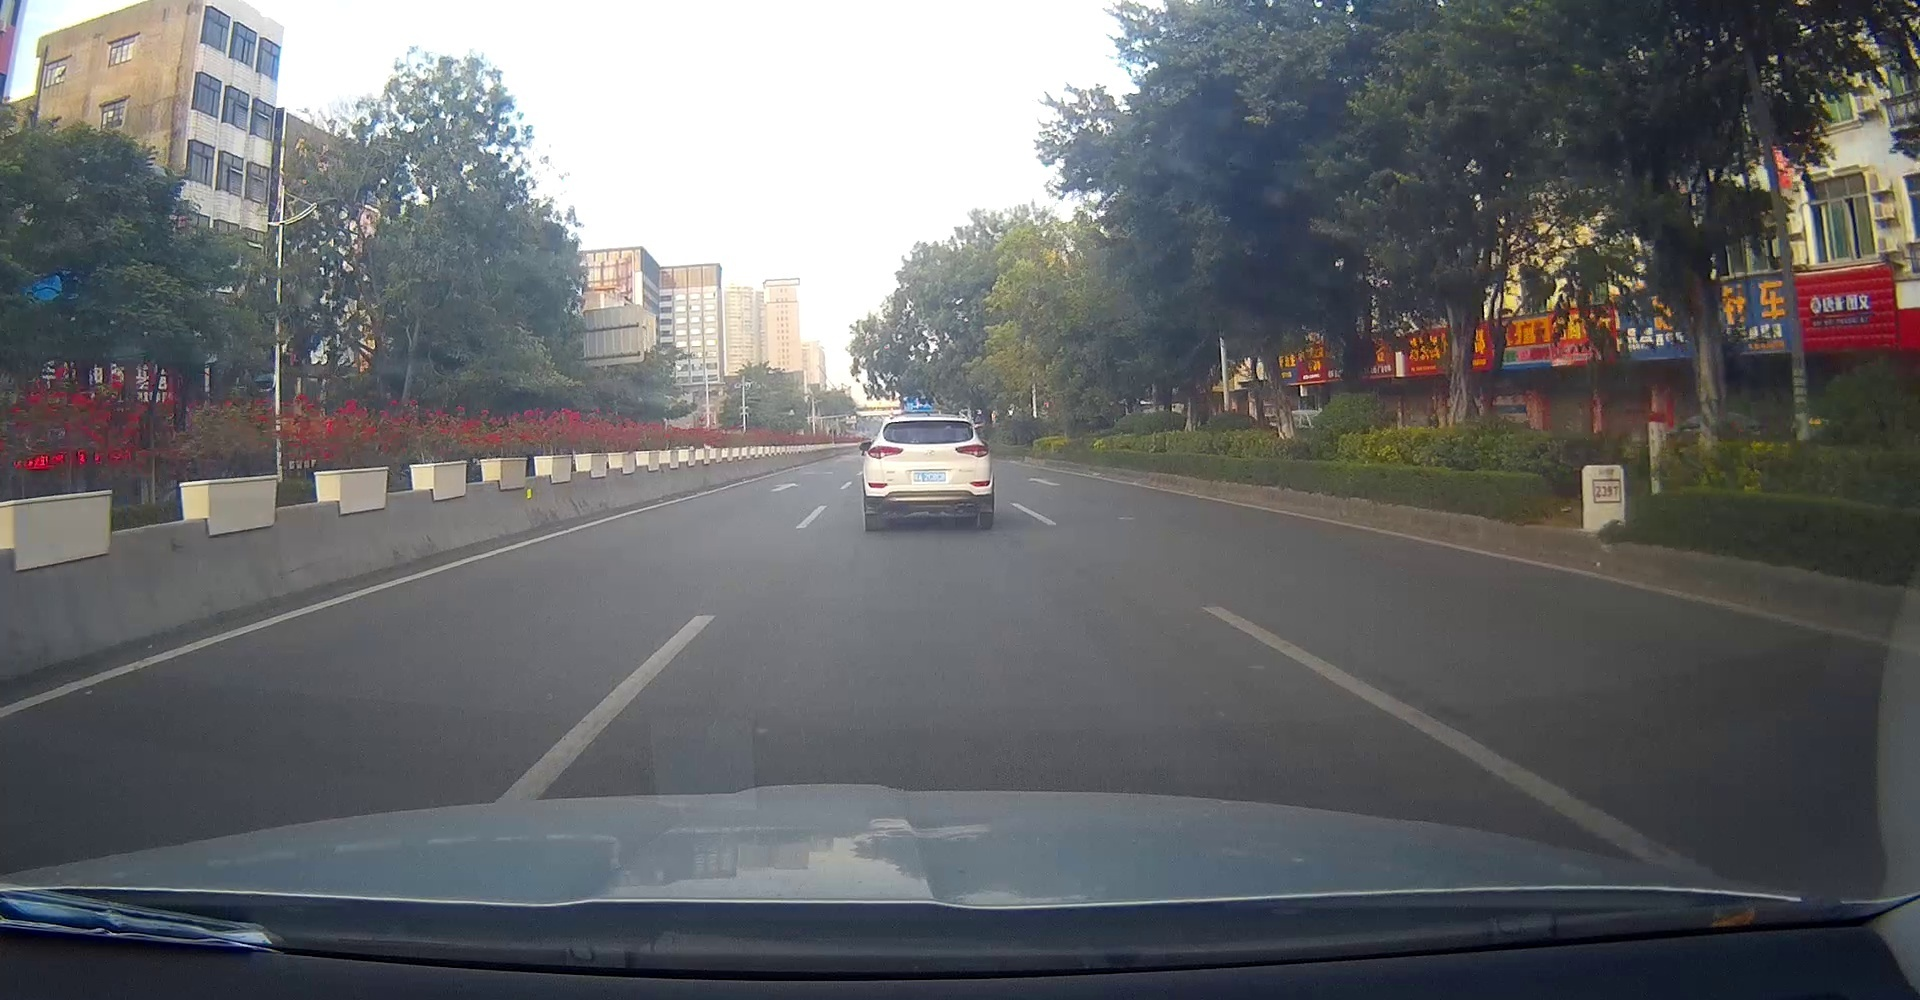L_light: (867, 445, 903, 459)
R_light: (955, 444, 988, 458)
T_light: (918, 421, 938, 425)
day-no: (863, 416, 993, 529)
